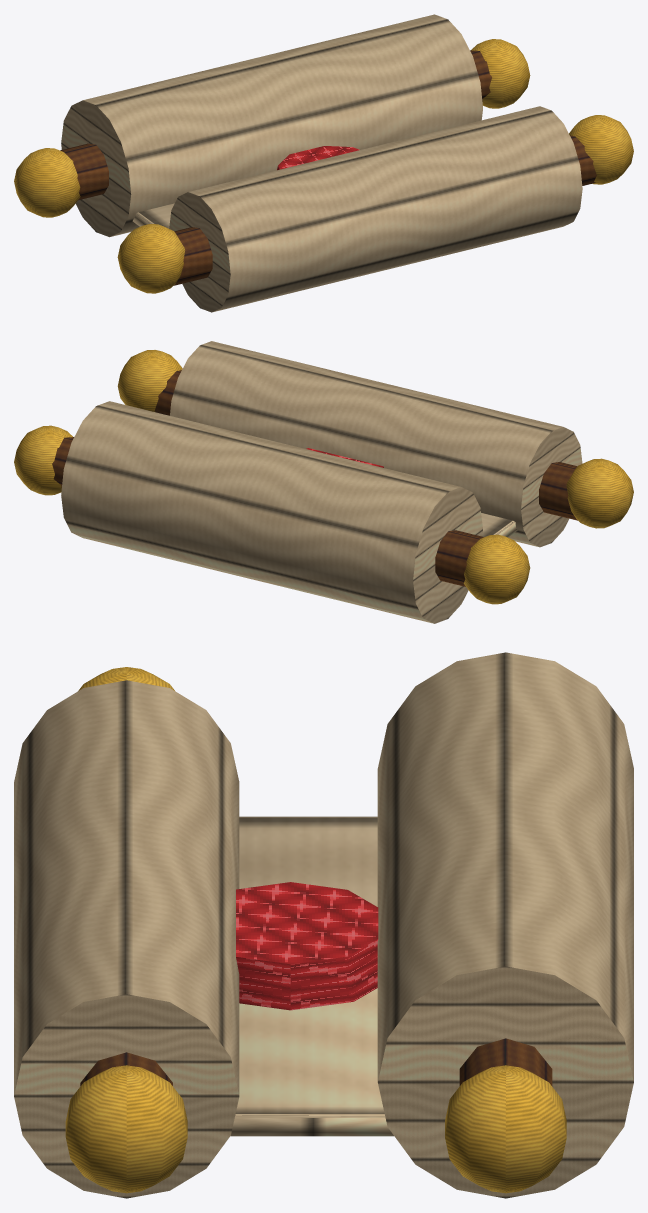
Rendered from scroll.glb.
3 renders of one model, top to bottom at view 1: azimuth 30°, elevation 25°; view 2: azimuth 150°, elevation 25°; view 3: azimuth 270°, elevation 25°, orthographic. The views are drawn at different scales.
Visible parts, largest first — view 1: ArcaneScroll; view 2: ArcaneScroll; view 3: ArcaneScroll.
Boxes of the visible parts, x1,y1,x2,y2 form: ArcaneScroll: (14,14,633,312); ArcaneScroll: (14,341,633,623); ArcaneScroll: (14,652,633,1198).
Bounding box in the file's own units: 20.9 × 5 × 12.1.
4 materials, 4 textured.
